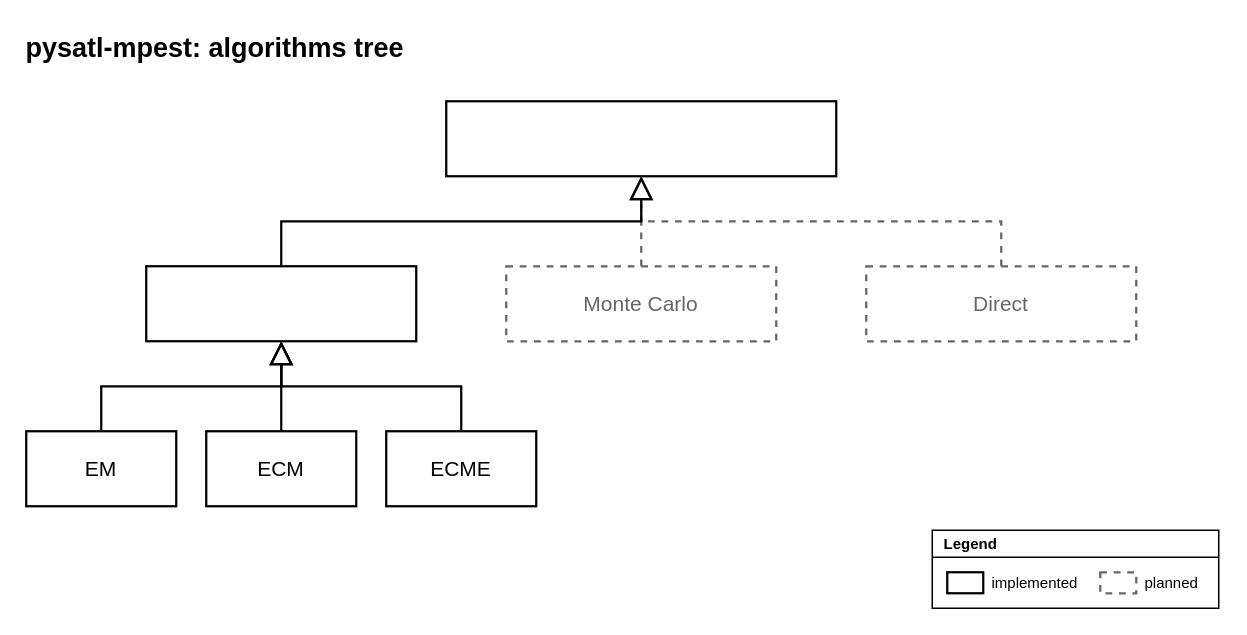
Some shapes in this 1247 by 635 pixel diagram are drawn without their labels. Here are the shapes that lost their labels. From the top down, the centre of each, then its label:
At (x=640, y=138): "Mixture parameter estimation".
At (x=280, y=303): "EM-like".
